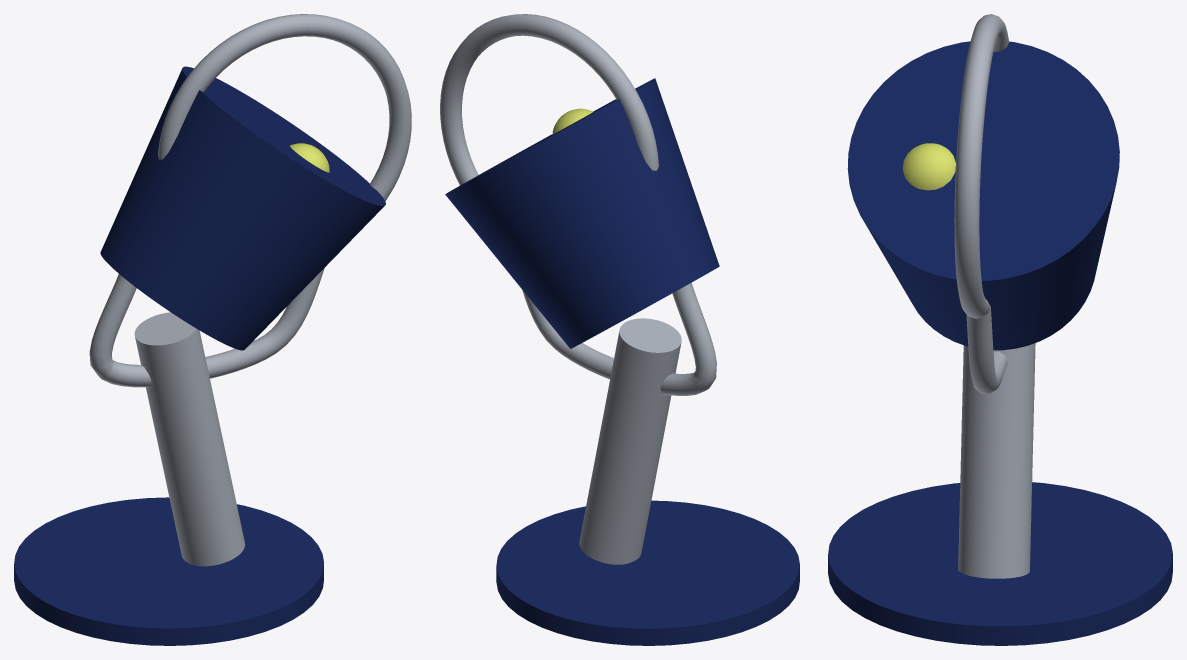
3 views of the same model, side by side, from view 1: azimuth 30°, elevation 25°; view 2: azimuth 150°, elevation 25°; view 3: azimuth 270°, elevation 25° (orthographic). The views are drawn at different scales.
Visible parts, largest first — view 1: metal barrel (×2), spotlight housing, rounded metal arc, light cradle, focused light; view 2: metal barrel (×2), spotlight housing, rounded metal arc, light cradle; view 3: spotlight housing, metal barrel (×2), rounded metal arc, light cradle, focused light.
Boxes of the visible parts, left/top/right/bottom form: metal barrel (×2): left=14, top=312, right=323, bottom=645; spotlight housing: left=100, top=66, right=385, bottom=350; rounded metal arc: left=158, top=14, right=411, bottom=200; light cradle: left=89, top=268, right=324, bottom=387; focused light: left=290, top=143, right=329, bottom=172; metal barrel (×2): left=496, top=318, right=799, bottom=645; spotlight housing: left=445, top=78, right=719, bottom=348; rounded metal arc: left=440, top=14, right=658, bottom=185; light cradle: left=522, top=283, right=716, bottom=395; spotlight housing: left=847, top=41, right=1119, bottom=350; metal barrel (×2): left=828, top=343, right=1172, bottom=645; rounded metal arc: left=954, top=14, right=1008, bottom=318; light cradle: left=966, top=307, right=1007, bottom=393; focused light: left=902, top=143, right=955, bottom=190.
Bounding box in the file's own units: 1.29 × 1.85 × 0.9599.
